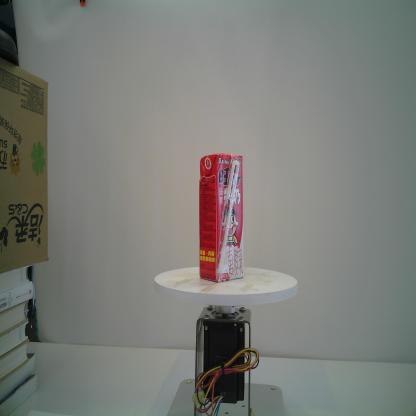Milk: (198, 151, 246, 284)
